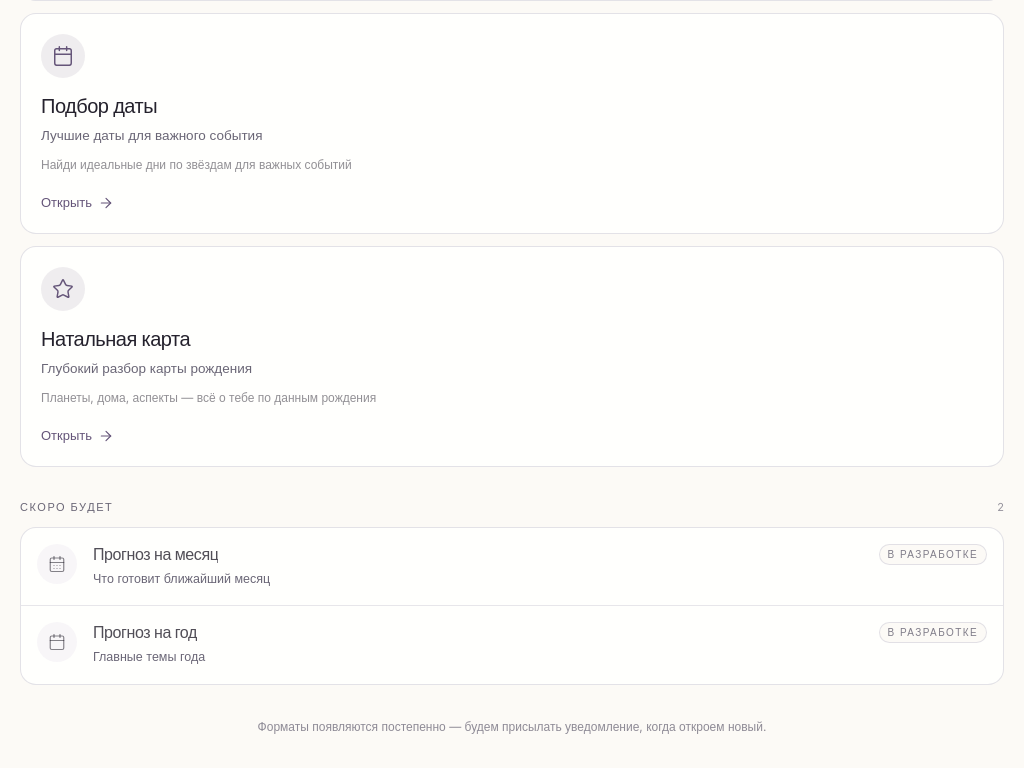
Test: ReadingsScreen › clicking coming card opens in-dev-overlay
(page scrolled)
Click the button with test id "readings-card-month" at x=57, y=564, box x1=21 y1=528 x2=1003 y2=606
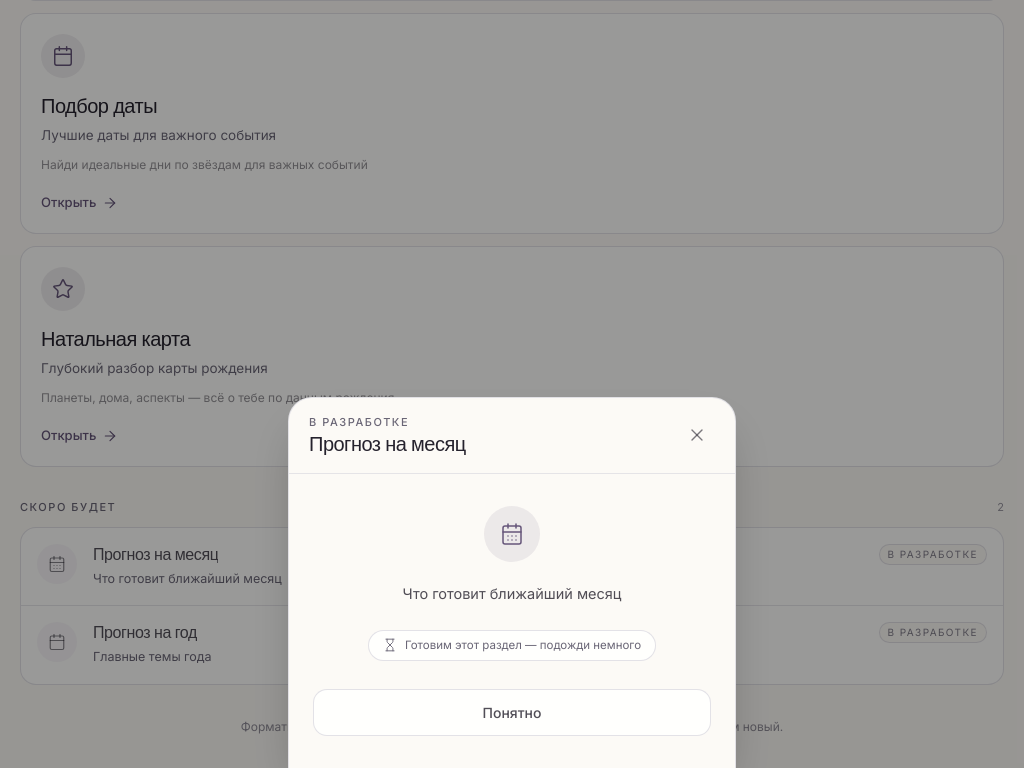
Expected: the dialog with test id "readings-in-dev-overlay" is shown
